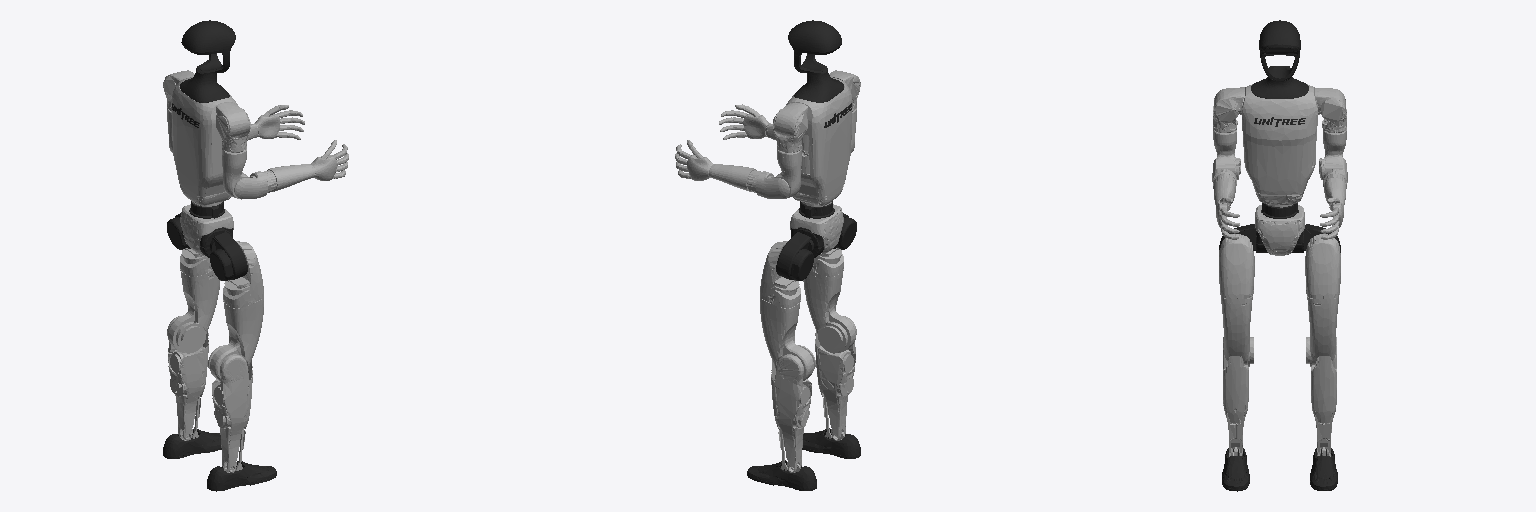
--- What the picture shows (computed from the rendered views, not written in the file) ---
3 views of the same robot in one strip: view 1: azimuth 30°, elevation 25°; view 2: azimuth 150°, elevation 25°; view 3: azimuth 270°, elevation 25° (orthographic).
Model g1_23dof with 33 links and 32 joints (23 revolute, 9 fixed), rooted at pelvis, posed all joints at 0.
Visible links, largest first — view 1: torso_link, right_knee_link, head_link, left_knee_link, left_hip_yaw_link, right_hip_yaw_link, right_wrist_roll_rubber_hand, right_hip_roll_link, right_hip_pitch_link, right_ankle_roll_link, left_wrist_roll_rubber_hand, pelvis_contour_link (+7 smaller); view 2: torso_link, left_knee_link, head_link, right_knee_link, right_hip_yaw_link, left_hip_yaw_link, left_wrist_roll_rubber_hand, left_hip_roll_link, left_hip_pitch_link, left_ankle_roll_link, right_wrist_roll_rubber_hand, pelvis_contour_link (+7 smaller); view 3: torso_link, head_link, right_hip_roll_link, left_hip_roll_link, left_knee_link, right_knee_link, left_hip_yaw_link, right_hip_yaw_link, pelvis_contour_link, left_wrist_roll_rubber_hand, right_wrist_roll_rubber_hand, left_ankle_roll_link (+6 smaller).
Link boxes in pixels (box(x1,y1,x2,y2)): torso_link: box(171, 77, 237, 196); right_knee_link: box(212, 354, 252, 472); head_link: box(180, 20, 235, 102); left_knee_link: box(167, 316, 208, 440); left_hip_yaw_link: box(168, 269, 220, 353); right_hip_yaw_link: box(208, 298, 263, 381); right_wrist_roll_rubber_hand: box(267, 140, 348, 191); right_hip_roll_link: box(223, 241, 263, 308); right_hip_pitch_link: box(210, 232, 247, 280); right_ankle_roll_link: box(207, 461, 276, 491); left_wrist_roll_rubber_hand: box(247, 105, 304, 140); pelvis_contour_link: box(180, 204, 233, 255); torso_link: box(786, 77, 852, 196); left_knee_link: box(771, 354, 811, 472); head_link: box(788, 20, 843, 102); right_knee_link: box(815, 316, 856, 440); right_hip_yaw_link: box(803, 269, 855, 353); left_hip_yaw_link: box(760, 298, 815, 380); left_wrist_roll_rubber_hand: box(675, 140, 756, 191); left_hip_roll_link: box(760, 241, 800, 308); left_hip_pitch_link: box(776, 232, 813, 280); left_ankle_roll_link: box(747, 460, 816, 490); right_wrist_roll_rubber_hand: box(719, 104, 776, 140); pelvis_contour_link: box(790, 204, 843, 255); torso_link: box(1240, 84, 1319, 194); head_link: box(1251, 20, 1308, 98); right_hip_roll_link: box(1219, 234, 1254, 298); left_hip_roll_link: box(1305, 234, 1340, 298); left_knee_link: box(1311, 337, 1336, 456); right_knee_link: box(1223, 337, 1248, 456); left_hip_yaw_link: box(1306, 296, 1338, 366); right_hip_yaw_link: box(1221, 296, 1253, 366); pelvis_contour_link: box(1255, 205, 1304, 255); left_wrist_roll_rubber_hand: box(1320, 178, 1345, 239); right_wrist_roll_rubber_hand: box(1214, 178, 1239, 239); left_ankle_roll_link: box(1310, 448, 1337, 490).
Size in the robot's own frame: 0.4418 by 0.3631 by 1.32 metres.
Meshes: 29 distinct files referenced, 29 mesh visuals loaded (29 OBJ).

URDF robot description (g1_23dof):
<robot name="g1_23dof">
  <mujoco>
    <compiler meshdir="meshes" discardvisual="false"/>
  </mujoco>

  <!-- [CAUTION] uncomment when convert to mujoco -->
  <!-- <link name="world"></link>
  <joint name="floating_base_joint" type="floating">
    <parent link="world"/>
    <child link="pelvis"/>
  </joint> -->

  <link name="pelvis">
    <inertial>
      <origin xyz="0 0 -0.07605" rpy="0 0 0"/>
      <mass value="3.813"/>
      <inertia ixx="0.010549" ixy="0" ixz="2.1E-06" iyy="0.0093089" iyz="0" izz="0.0079184"/>
    </inertial>
    <visual>
      <origin xyz="0 0 0" rpy="0 0 0"/>
      <geometry>
        <mesh filename="meshes/pelvis.obj"/>
      </geometry>
      <material name="dark">
        <color rgba="0.2 0.2 0.2 1"/>
      </material>
    </visual>
  </link>
  <link name="pelvis_contour_link">
    <inertial>
      <origin xyz="0 0 0" rpy="0 0 0"/>
      <mass value="0.001"/>
      <inertia ixx="1e-7" ixy="0" ixz="0" iyy="1e-7" iyz="0" izz="1e-7"/>
    </inertial>
    <visual>
      <origin xyz="0 0 0" rpy="0 0 0"/>
      <geometry>
        <mesh filename="meshes/pelvis_contour_link.obj"/>
      </geometry>
      <material name="white">
        <color rgba="0.7 0.7 0.7 1"/>
      </material>
    </visual>
    <collision>
      <origin xyz="0 0 0" rpy="0 0 0"/>
      <geometry>
        <mesh filename="meshes/pelvis_contour_link.obj"/>
      </geometry>
    </collision>
  </link>
  <joint name="pelvis_contour_joint" type="fixed">
    <parent link="pelvis"/>
    <child link="pelvis_contour_link"/>
  </joint>

  <!-- Legs -->
  <link name="left_hip_pitch_link">
    <inertial>
      <origin xyz="0.002741 0.047791 -0.02606" rpy="0 0 0"/>
      <mass value="1.35"/>
      <inertia ixx="0.001811" ixy="3.68E-05" ixz="-3.44E-05" iyy="0.0014193" iyz="0.000171" izz="0.0012812"/>
    </inertial>
    <visual>
      <origin xyz="0 0 0" rpy="0 0 0"/>
      <geometry>
        <mesh filename="meshes/left_hip_pitch_link.obj"/>
      </geometry>
      <material name="dark">
        <color rgba="0.2 0.2 0.2 1"/>
      </material>
    </visual>
    <collision>
      <origin xyz="0 0 0" rpy="0 0 0"/>
      <geometry>
        <mesh filename="meshes/left_hip_pitch_link.obj"/>
      </geometry>
    </collision>
  </link>
  <joint name="left_hip_pitch_joint" type="revolute">
    <origin xyz="0 0.064452 -0.1027" rpy="0 0 0"/>
    <parent link="pelvis"/>
    <child link="left_hip_pitch_link"/>
    <axis xyz="0 1 0"/>
    <limit lower="-2.5307" upper="2.8798" effort="88" velocity="32"/>
  </joint>
  <link name="left_hip_roll_link">
    <inertial>
      <origin xyz="0.029812 -0.001045 -0.087934" rpy="0 0 0"/>
      <mass value="1.52"/>
      <inertia ixx="0.0023773" ixy="-3.8E-06" ixz="-0.0003908" iyy="0.0024123" iyz="1.84E-05" izz="0.0016595"/>
    </inertial>
    <visual>
      <origin xyz="0 0 0" rpy="0 0 0"/>
      <geometry>
        <mesh filename="meshes/left_hip_roll_link.obj"/>
      </geometry>
      <material name="white">
        <color rgba="0.7 0.7 0.7 1"/>
      </material>
    </visual>
    <collision>
      <origin xyz="0 0 0" rpy="0 0 0"/>
      <geometry>
        <mesh filename="meshes/left_hip_roll_link.obj"/>
      </geometry>
    </collision>
  </link>
  <joint name="left_hip_roll_joint" type="revolute">
    <origin xyz="0 0.052 -0.030465" rpy="0 -0.1749 0"/>
    <parent link="left_hip_pitch_link"/>
    <child link="left_hip_roll_link"/>
    <axis xyz="1 0 0"/>
    <limit lower="-0.5236" upper="2.9671" effort="88" velocity="32"/>
  </joint>
  <link name="left_hip_yaw_link">
    <inertial>
      <origin xyz="-0.057709 -0.010981 -0.15078" rpy="0 0 0"/>
      <mass value="1.702"/>
      <inertia ixx="0.0057774" ixy="-0.0005411" ixz="-0.0023948" iyy="0.0076124" iyz="-0.0007072" izz="0.003149"/>
    </inertial>
    <visual>
      <origin xyz="0 0 0" rpy="0 0 0"/>
      <geometry>
        <mesh filename="meshes/left_hip_yaw_link.obj"/>
      </geometry>
      <material name="white">
        <color rgba="0.7 0.7 0.7 1"/>
      </material>
    </visual>
    <collision>
      <origin xyz="0 0 0" rpy="0 0 0"/>
      <geometry>
        <mesh filename="meshes/left_hip_yaw_link.obj"/>
      </geometry>
    </collision>
  </link>
  <joint name="left_hip_yaw_joint" type="revolute">
    <origin xyz="0.025001 0 -0.12412" rpy="0 0 0"/>
    <parent link="left_hip_roll_link"/>
    <child link="left_hip_yaw_link"/>
    <axis xyz="0 0 1"/>
    <limit lower="-2.7576" upper="2.7576" effort="88" velocity="32"/>
  </joint>
  <link name="left_knee_link">
    <inertial>
      <origin xyz="0.005457 0.003964 -0.12074" rpy="0 0 0"/>
      <mass value="1.932"/>
      <inertia ixx="0.011329" ixy="4.82E-05" ixz="-4.49E-05" iyy="0.011277" iyz="-0.0007146" izz="0.0015168"/>
    </inertial>
    <visual>
      <origin xyz="0 0 0" rpy="0 0 0"/>
      <geometry>
        <mesh filename="meshes/left_knee_link.obj"/>
      </geometry>
      <material name="white">
        <color rgba="0.7 0.7 0.7 1"/>
      </material>
    </visual>
    <collision>
      <origin xyz="0 0 0" rpy="0 0 0"/>
      <geometry>
        <mesh filename="meshes/left_knee_link.obj"/>
      </geometry>
    </collision>
  </link>
  <joint name="left_knee_joint" type="revolute">
    <origin xyz="-0.078273 0.0021489 -0.17734" rpy="0 0.1749 0"/>
    <parent link="left_hip_yaw_link"/>
    <child link="left_knee_link"/>
    <axis xyz="0 1 0"/>
    <limit lower="-0.087267" upper="2.8798" effort="139" velocity="20"/>
  </joint>
  <link name="left_ankle_pitch_link">
    <inertial>
      <origin xyz="-0.007269 0 0.011137" rpy="0 0 0"/>
      <mass value="0.074"/>
      <inertia ixx="8.4E-06" ixy="0" ixz="-2.9E-06" iyy="1.89E-05" iyz="0" izz="1.26E-05"/>
    </inertial>
    <visual>
      <origin xyz="0 0 0" rpy="0 0 0"/>
      <geometry>
        <mesh filename="meshes/left_ankle_pitch_link.obj"/>
      </geometry>
      <material name="white">
        <color rgba="0.7 0.7 0.7 1"/>
      </material>
    </visual>
    <collision>
      <origin xyz="0 0 0" rpy="0 0 0"/>
      <geometry>
        <mesh filename="meshes/left_ankle_pitch_link.obj"/>
      </geometry>
    </collision>
  </link>
  <joint name="left_ankle_pitch_joint" type="revolute">
    <origin xyz="0 -9.4445E-05 -0.30001" rpy="0 0 0"/>
    <parent link="left_knee_link"/>
    <child link="left_ankle_pitch_link"/>
    <axis xyz="0 1 0"/>
    <limit lower="-0.87267" upper="0.5236" effort="50" velocity="37"/>
  </joint>
  <link name="left_ankle_roll_link">
    <inertial>
      <origin xyz="0.026505 0 -0.016425" rpy="0 0 0"/>
      <mass value="0.608"/>
      <inertia ixx="0.0002231" ixy="2E-07" ixz="8.91E-05" iyy="0.0016161" iyz="-1E-07" izz="0.0016667"/>
    </inertial>
    <visual>
      <origin xyz="0 0 0" rpy="0 0 0"/>
      <geometry>
        <mesh filename="meshes/left_ankle_roll_link.obj"/>
      </geometry>
      <material name="dark">
        <color rgba="0.2 0.2 0.2 1"/>
      </material>
    </visual>
    <collision>
      <origin xyz="-0.05 0.025 -0.03" rpy="0 0 0"/>
      <geometry>
        <sphere radius="0.005"/>
      </geometry>
    </collision>
    <collision>
      <origin xyz="-0.05 -0.025 -0.03" rpy="0 0 0"/>
      <geometry>
        <sphere radius="0.005"/>
      </geometry>
    </collision>
    <collision>
      <origin xyz="0.12 0.03 -0.03" rpy="0 0 0"/>
      <geometry>
        <sphere radius="0.005"/>
      </geometry>
    </collision>
    <collision>
      <origin xyz="0.12 -0.03 -0.03" rpy="0 0 0"/>
      <geometry>
        <sphere radius="0.005"/>
      </geometry>
    </collision>
  </link>
  <joint name="left_ankle_roll_joint" type="revolute">
    <origin xyz="0 0 -0.017558" rpy="0 0 0"/>
    <parent link="left_ankle_pitch_link"/>
    <child link="left_ankle_roll_link"/>
    <axis xyz="1 0 0"/>
    <limit lower="-0.2618" upper="0.2618" effort="50" velocity="37"/>
  </joint>
  <link name="right_hip_pitch_link">
    <inertial>
      <origin xyz="0.002741 -0.047791 -0.02606" rpy="0 0 0"/>
      <mass value="1.35"/>
      <inertia ixx="0.001811" ixy="-3.68E-05" ixz="-3.44E-05" iyy="0.0014193" iyz="-0.000171" izz="0.0012812"/>
    </inertial>
    <visual>
      <origin xyz="0 0 0" rpy="0 0 0"/>
      <geometry>
        <mesh filename="meshes/right_hip_pitch_link.obj"/>
      </geometry>
      <material name="dark">
        <color rgba="0.2 0.2 0.2 1"/>
      </material>
    </visual>
    <collision>
      <origin xyz="0 0 0" rpy="0 0 0"/>
      <geometry>
        <mesh filename="meshes/right_hip_pitch_link.obj"/>
      </geometry>
    </collision>
  </link>
  <joint name="right_hip_pitch_joint" type="revolute">
    <origin xyz="0 -0.064452 -0.1027" rpy="0 0 0"/>
    <parent link="pelvis"/>
    <child link="right_hip_pitch_link"/>
    <axis xyz="0 1 0"/>
    <limit lower="-2.5307" upper="2.8798" effort="88" velocity="32"/>
  </joint>
  <link name="right_hip_roll_link">
    <inertial>
      <origin xyz="0.029812 0.001045 -0.087934" rpy="0 0 0"/>
      <mass value="1.52"/>
      <inertia ixx="0.0023773" ixy="3.8E-06" ixz="-0.0003908" iyy="0.0024123" iyz="-1.84E-05" izz="0.0016595"/>
    </inertial>
    <visual>
      <origin xyz="0 0 0" rpy="0 0 0"/>
      <geometry>
        <mesh filename="meshes/right_hip_roll_link.obj"/>
      </geometry>
      <material name="white">
        <color rgba="0.7 0.7 0.7 1"/>
      </material>
    </visual>
    <collision>
      <origin xyz="0 0 0" rpy="0 0 0"/>
      <geometry>
        <mesh filename="meshes/right_hip_roll_link.obj"/>
      </geometry>
    </collision>
  </link>
  <joint name="right_hip_roll_joint" type="revolute">
    <origin xyz="0 -0.052 -0.030465" rpy="0 -0.1749 0"/>
    <parent link="right_hip_pitch_link"/>
    <child link="right_hip_roll_link"/>
    <axis xyz="1 0 0"/>
    <limit lower="-2.9671" upper="0.5236" effort="88" velocity="32"/>
  </joint>
  <link name="right_hip_yaw_link">
    <inertial>
      <origin xyz="-0.057709 0.010981 -0.15078" rpy="0 0 0"/>
      <mass value="1.702"/>
      <inertia ixx="0.0057774" ixy="0.0005411" ixz="-0.0023948" iyy="0.0076124" iyz="0.0007072" izz="0.003149"/>
    </inertial>
    <visual>
      <origin xyz="0 0 0" rpy="0 0 0"/>
      <geometry>
        <mesh filename="meshes/right_hip_yaw_link.obj"/>
      </geometry>
      <material name="white">
        <color rgba="0.7 0.7 0.7 1"/>
      </material>
    </visual>
    <collision>
      <origin xyz="0 0 0" rpy="0 0 0"/>
      <geometry>
        <mesh filename="meshes/right_hip_yaw_link.obj"/>
      </geometry>
    </collision>
  </link>
  <joint name="right_hip_yaw_joint" type="revolute">
    <origin xyz="0.025001 0 -0.12412" rpy="0 0 0"/>
    <parent link="right_hip_roll_link"/>
    <child link="right_hip_yaw_link"/>
    <axis xyz="0 0 1"/>
    <limit lower="-2.7576" upper="2.7576" effort="88" velocity="32"/>
  </joint>
  <link name="right_knee_link">
    <inertial>
      <origin xyz="0.005457 -0.003964 -0.12074" rpy="0 0 0"/>
      <mass value="1.932"/>
      <inertia ixx="0.011329" ixy="-4.82E-05" ixz="4.49E-05" iyy="0.011277" iyz="0.0007146" izz="0.0015168"/>
    </inertial>
    <visual>
      <origin xyz="0 0 0" rpy="0 0 0"/>
      <geometry>
        <mesh filename="meshes/right_knee_link.obj"/>
      </geometry>
      <material name="white">
        <color rgba="0.7 0.7 0.7 1"/>
      </material>
    </visual>
    <collision>
      <origin xyz="0 0 0" rpy="0 0 0"/>
      <geometry>
        <mesh filename="meshes/right_knee_link.obj"/>
      </geometry>
    </collision>
  </link>
  <joint name="right_knee_joint" type="revolute">
    <origin xyz="-0.078273 -0.0021489 -0.17734" rpy="0 0.1749 0"/>
    <parent link="right_hip_yaw_link"/>
    <child link="right_knee_link"/>
    <axis xyz="0 1 0"/>
    <limit lower="-0.087267" upper="2.8798" effort="139" velocity="20"/>
  </joint>
  <link name="right_ankle_pitch_link">
    <inertial>
      <origin xyz="-0.007269 0 0.011137" rpy="0 0 0"/>
      <mass value="0.074"/>
      <inertia ixx="8.4E-06" ixy="0" ixz="-2.9E-06" iyy="1.89E-05" iyz="0" izz="1.26E-05"/>
    </inertial>
    <visual>
      <origin xyz="0 0 0" rpy="0 0 0"/>
      <geometry>
        <mesh filename="meshes/right_ankle_pitch_link.obj"/>
      </geometry>
      <material name="white">
        <color rgba="0.7 0.7 0.7 1"/>
      </material>
    </visual>
    <collision>
      <origin xyz="0 0 0" rpy="0 0 0"/>
      <geometry>
        <mesh filename="meshes/right_ankle_pitch_link.obj"/>
      </geometry>
    </collision>
  </link>
  <joint name="right_ankle_pitch_joint" type="revolute">
    <origin xyz="0 9.4445E-05 -0.30001" rpy="0 0 0"/>
    <parent link="right_knee_link"/>
    <child link="right_ankle_pitch_link"/>
    <axis xyz="0 1 0"/>
    <limit lower="-0.87267" upper="0.5236" effort="50" velocity="37"/>
  </joint>
  <link name="right_ankle_roll_link">
    <inertial>
      <origin xyz="0.026505 0 -0.016425" rpy="0 0 0"/>
      <mass value="0.608"/>
      <inertia ixx="0.0002231" ixy="-2E-07" ixz="8.91E-05" iyy="0.0016161" iyz="1E-07" izz="0.0016667"/>
    </inertial>
    <visual>
      <origin xyz="0 0 0" rpy="0 0 0"/>
      <geometry>
        <mesh filename="meshes/right_ankle_roll_link.obj"/>
      </geometry>
      <material name="dark">
        <color rgba="0.2 0.2 0.2 1"/>
      </material>
    </visual>
    <collision>
      <origin xyz="-0.05 0.025 -0.03" rpy="0 0 0"/>
      <geometry>
        <sphere radius="0.005"/>
      </geometry>
    </collision>
    <collision>
      <origin xyz="-0.05 -0.025 -0.03" rpy="0 0 0"/>
      <geometry>
        <sphere radius="0.005"/>
      </geometry>
    </collision>
    <collision>
      <origin xyz="0.12 0.03 -0.03" rpy="0 0 0"/>
      <geometry>
        <sphere radius="0.005"/>
      </geometry>
    </collision>
    <collision>
      <origin xyz="0.12 -0.03 -0.03" rpy="0 0 0"/>
      <geometry>
        <sphere radius="0.005"/>
      </geometry>
    </collision>
  </link>
  <joint name="right_ankle_roll_joint" type="revolute">
    <origin xyz="0 0 -0.017558" rpy="0 0 0"/>
    <parent link="right_ankle_pitch_link"/>
    <child link="right_ankle_roll_link"/>
    <axis xyz="1 0 0"/>
    <limit lower="-0.2618" upper="0.2618" effort="50" velocity="37"/>
  </joint>

  <!-- Torso -->
  <link name="waist_yaw_fixed_link">
    <inertial>
      <origin xyz="0.003964 0 0.018769" rpy="0 0 0"/>
      <mass value="0.244"/>
      <inertia ixx="9.9587E-05" ixy="-1.833E-06" ixz="-1.2617E-05" iyy="0.00012411" iyz="-1.18E-07" izz="0.00015586"/>
    </inertial>
    <visual>
      <origin xyz="0 0 0" rpy="0 0 0"/>
      <geometry>
        <mesh filename="meshes/waist_yaw_link.obj"/>
      </geometry>
      <material name="white">
        <color rgba="0.7 0.7 0.7 1"/>
      </material>
    </visual>
  </link>
  <joint name="waist_yaw_fixed_joint" type="fixed">
    <origin xyz="0.0039635 0 -0.054" rpy="0 0 0"/>
    <parent link="torso_link"/>
    <child link="waist_yaw_fixed_link"/>
  </joint>
  <joint name="waist_yaw_joint" type="revolute">
    <origin xyz="-0.0039635 0 0.054" rpy="0 0 0"/>
    <parent link="pelvis"/>
    <child link="torso_link"/>
    <axis xyz="0 0 1"/>
    <limit lower="-2.618" upper="2.618" effort="88" velocity="32"/>
  </joint>
  <link name="torso_link">
    <inertial>
      <origin xyz="0.002601 0.000257 0.153719" rpy="0 0 0"/>
      <mass value="8.562"/>
      <inertia ixx="0.065674966" ixy="-8.597E-05" ixz="-0.001737252" iyy="0.053535188" iyz="8.6899E-05" izz="0.030808125"/>
    </inertial>
    <visual>
      <origin xyz="0 0 0" rpy="0 0 0"/>
      <geometry>
        <mesh filename="meshes/torso_link.obj"/>
      </geometry>
      <material name="white">
        <color rgba="0.7 0.7 0.7 1"/>
      </material>
    </visual>
    <collision>
      <origin xyz="0 0 0" rpy="0 0 0"/>
      <geometry>
        <mesh filename="meshes/torso_link.obj"/>
      </geometry>
    </collision>
  </link>

  <!-- LOGO -->
  <joint name="logo_joint" type="fixed">
    <origin xyz="0.0039635 0 -0.054" rpy="0 0 0"/>
    <parent link="torso_link"/>
    <child link="logo_link"/>
  </joint>
  <link name="logo_link">
    <inertial>
      <origin xyz="0 0 0" rpy="0 0 0"/>
      <mass value="0.001"/>
      <inertia ixx="1e-7" ixy="0" ixz="0" iyy="1e-7" iyz="0" izz="1e-7"/>
    </inertial>
    <visual>
      <origin xyz="0 0 0" rpy="0 0 0"/>
      <geometry>
        <mesh filename="meshes/logo_link.obj"/>
      </geometry>
      <material name="dark">
        <color rgba="0.2 0.2 0.2 1"/>
      </material>
    </visual>
    <collision>
      <origin xyz="0 0 0" rpy="0 0 0"/>
      <geometry>
        <mesh filename="meshes/logo_link.obj"/>
      </geometry>
    </collision>
  </link>

  <!-- Head -->
  <link name="head_link">
    <inertial>
      <origin xyz="0.005267 0.000299 0.449869" rpy="0 0 0"/>
      <mass value="1.036"/>
      <inertia ixx="0.004085051" ixy="-2.543E-06" ixz="-6.9455E-05" iyy="0.004185212" iyz="-3.726E-06" izz="0.001807911"/>
    </inertial>
    <visual>
      <origin xyz="0 0 0" rpy="0 0 0"/>
      <geometry>
        <mesh filename="meshes/head_link.obj"/>
      </geometry>
      <material name="dark">
        <color rgba="0.2 0.2 0.2 1"/>
      </material>
    </visual>
    <collision>
      <origin xyz="0 0 0" rpy="0 0 0"/>
      <geometry>
        <mesh filename="meshes/head_link.obj"/>
      </geometry>
    </collision>
  </link>
  <joint name="head_joint" type="fixed">
    <origin xyz="0.0039635 0 -0.054" rpy="0 0 0"/>
    <parent link="torso_link"/>
    <child link="head_link"/>
  </joint>

  <!-- Waist Support -->
  <link name="waist_support_link">
    <inertial>
      <origin xyz="0 0 0" rpy="0 0 0"/>
      <mass value="0.001"/>
      <inertia ixx="1e-7" ixy="0" ixz="0" iyy="1e-7" iyz="0" izz="1e-7"/>
    </inertial>
    <visual>
      <origin xyz="0 0 0" rpy="0 0 0"/>
      <geometry>
        <mesh filename="meshes/waist_support_link.obj"/>
      </geometry>
      <material name="white">
        <color rgba="0.7 0.7 0.7 1"/>
      </material>
    </visual>
    <collision>
      <origin xyz="0 0 0" rpy="0 0 0"/>
      <geometry>
        <mesh filename="meshes/waist_support_link.obj"/>
      </geometry>
    </collision>
  </link>
  <joint name="waist_support_joint" type="fixed">
    <origin xyz="0.0039635 0 -0.054" rpy="0 0 0"/>
    <parent link="torso_link"/>
    <child link="waist_support_link"/>
  </joint>

  <!-- IMU -->
  <link name="imu_in_torso"></link>
  <joint name="imu_in_torso_joint" type="fixed">
    <origin xyz="-0.03959 -0.00224 0.13792" rpy="0 0 0"/>
    <parent link="torso_link"/>
    <child link="imu_in_torso"/>
  </joint>

  <link name="imu_in_pelvis"></link>
  <joint name="imu_in_pelvis_joint" type="fixed">
    <origin xyz="0.04525 0 -0.08339" rpy="0 0 0"/>
    <parent link="pelvis"/>
    <child link="imu_in_pelvis"/>
  </joint>

  <!-- d435 -->
  <link name="d435_link"></link>
  <joint name="d435_joint" type="fixed">
    <origin xyz="0.0576235 0.01753 0.41987" rpy="0 0.8307767239493009 0"/>
    <parent link="torso_link"/>
    <child link="d435_link"/>
  </joint>

  <!-- mid360 -->
  <link name="mid360_link"></link>
  <joint name="mid360_joint" type="fixed">
    <origin xyz="0.0002835 0.00003 0.40618" rpy="0 0.04014257279586953 0"/>
    <parent link="torso_link"/>
    <child link="mid360_link"/>
  </joint>

  <!-- Arm -->
  <link name="left_shoulder_pitch_link">
    <inertial>
      <origin xyz="0 0.035892 -0.011628" rpy="0 0 0"/>
      <mass value="0.718"/>
      <inertia ixx="0.0004291" ixy="-9.2E-06" ixz="6.4E-06" iyy="0.000453" iyz="2.26E-05" izz="0.000423"/>
    </inertial>
    <visual>
      <origin xyz="0 0 0" rpy="0 0 0"/>
      <geometry>
        <mesh filename="meshes/left_shoulder_pitch_link.obj"/>
      </geometry>
      <material name="white">
        <color rgba="0.7 0.7 0.7 1"/>
      </material>
    </visual>
    <collision>
      <origin xyz="0 0.04 -0.01" rpy="0 1.5707963267948966 0"/>
      <geometry>
        <cylinder radius="0.03" length="0.05"/>
      </geometry>
    </collision>
  </link>
  <joint name="left_shoulder_pitch_joint" type="revolute">
    <origin xyz="0.0039563 0.10022 0.23778" rpy="0.27931 5.4949E-05 -0.00019159"/>
    <parent link="torso_link"/>
    <child link="left_shoulder_pitch_link"/>
    <axis xyz="0 1 0"/>
    <limit lower="-3.0892" upper="2.6704" effort="25" velocity="37"/>
  </joint>
  <link name="left_shoulder_roll_link">
    <inertial>
      <origin xyz="-0.000227 0.00727 -0.063243" rpy="0 0 0"/>
      <mass value="0.643"/>
      <inertia ixx="0.0006177" ixy="-1E-06" ixz="8.7E-06" iyy="0.0006912" iyz="-5.3E-06" izz="0.0003894"/>
    </inertial>
    <visual>
      <origin xyz="0 0 0" rpy="0 0 0"/>
      <geometry>
        <mesh filename="meshes/left_shoulder_roll_link.obj"/>
      </geometry>
      <material name="white">
        <color rgba="0.7 0.7 0.7 1"/>
      </material>
    </visual>
    <collision>
      <origin xyz="-0.004 0.006 -0.053" rpy="0 0 0"/>
      <geometry>
        <cylinder radius="0.03" length="0.03"/>
      </geometry>
    </collision>
  </link>
  <joint name="left_shoulder_roll_joint" type="revolute">
    <origin xyz="0 0.038 -0.013831" rpy="-0.27925 0 0"/>
    <parent link="left_shoulder_pitch_link"/>
    <child link="left_shoulder_roll_link"/>
    <axis xyz="1 0 0"/>
    <limit lower="-1.5882" upper="2.2515" effort="25" velocity="37"/>
  </joint>
  <link name="left_shoulder_yaw_link">
    <inertial>
      <origin xyz="0.010773 -0.002949 -0.072009" rpy="0 0 0"/>
      <mass value="0.734"/>
      <inertia ixx="0.0009988" ixy="7.9E-06" ixz="0.0001412" iyy="0.0010605" iyz="-2.86E-05" izz="0.0004354"/>
    </inertial>
    <visual>
      <origin xyz="0 0 0" rpy="0 0 0"/>
      <geometry>
        <mesh filename="meshes/left_shoulder_yaw_link.obj"/>
      </geometry>
      <material name="white">
        <color rgba="0.7 0.7 0.7 1"/>
      </material>
    </visual>
    <collision>
      <origin xyz="0 0 0" rpy="0 0 0"/>
      <geometry>
        <mesh filename="meshes/left_shoulder_yaw_link.obj"/>
      </geometry>
    </collision>
  </link>
  <joint name="left_shoulder_yaw_joint" type="revolute">
    <origin xyz="0 0.00624 -0.1032" rpy="0 0 0"/>
    <parent link="left_shoulder_roll_link"/>
    <child link="left_shoulder_yaw_link"/>
    <axis xyz="0 0 1"/>
    <limit lower="-2.618" upper="2.618" effort="25" velocity="37"/>
  </joint>
  <link name="left_elbow_link">
    <inertial>
      <origin xyz="0.064956 0.004454 -0.010062" rpy="0 0 0"/>
      <mass value="0.6"/>
      <inertia ixx="0.0002891" ixy="6.53E-05" ixz="1.72E-05" iyy="0.0004152" iyz="-5.6E-06" izz="0.0004197"/>
    </inertial>
    <visual>
      <origin xyz="0 0 0" rpy="0 0 0"/>
      <geometry>
        <mesh filename="meshes/left_elbow_link.obj"/>
      </geometry>
      <material name="white">
        <color rgba="0.7 0.7 0.7 1"/>
      </material>
    </visual>
    <collision>
      <origin xyz="0 0 0" rpy="0 0 0"/>
      <geometry>
        <mesh filename="meshes/left_elbow_link.obj"/>
      </geometry>
    </collision>
  </link>
  <joint name="left_elbow_joint" type="revolute">
    <origin xyz="0.015783 0 -0.080518" rpy="0 0 0"/>
    <parent link="left_shoulder_yaw_link"/>
    <child link="left_elbow_link"/>
    <axis xyz="0 1 0"/>
    <limit lower="-1.0472" upper="2.0944" effort="25" velocity="37"/>
  </joint>
  <joint name="left_wrist_roll_joint" type="revolute">
    <origin xyz="0.100 0.00188791 -0.010" rpy="0 0 0"/>
    <axis xyz="1 0 0"/>
    <parent link="left_elbow_link"/>
    <child link="left_wrist_roll_rubber_hand"/>
    <limit effort="25" velocity="37" lower="-1.972222054" upper="1.972222054"/>
  </joint>
  <link name="left_wrist_roll_rubber_hand">
    <inertial>
      <origin xyz="0.10794656650 0.00163511945 0.00202244863" rpy="0 0 0"/>
      <mass value="0.35692864"/>
      <inertia ixx="0.00019613494735" ixy="-0.00000419816908" ixz="-0.00003950860580" iyy="0.00200280358206" iyz="0.00000249774203" izz="0.00194181412808"/>
    </inertial>
    <visual>
      <origin xyz="0 0 0" rpy="0 0 0"/>
      <geometry>
        <mesh filename="meshes/left_wrist_roll_rubber_hand.obj"/>
      </geometry>
      <material name="white">
        <color rgba="0.7 0.7 0.7 1"/>
      </material>
    </visual>
    <collision>
      <origin xyz="0 0 0" rpy="0 0 0"/>
      <geometry>
        <mesh filename="meshes/left_wrist_roll_rubber_hand.obj"/>
      </geometry>
    </collision>
  </link>
  <link name="right_shoulder_pitch_link">
    <inertial>
      <origin xyz="0 -0.035892 -0.011628" rpy="0 0 0"/>
      <mass value="0.718"/>
      <inertia ixx="0.0004291" ixy="9.2E-06" ixz="6.4E-06" iyy="0.000453" iyz="-2.26E-05" izz="0.000423"/>
    </inertial>
    <visual>
      <origin xyz="0 0 0" rpy="0 0 0"/>
      <geometry>
        <mesh filename="meshes/right_shoulder_pitch_link.obj"/>
      </geometry>
      <material name="white">
        <color rgba="0.7 0.7 0.7 1"/>
      </material>
    </visual>
    <collision>
      <origin xyz="0 -0.04 -0.01" rpy="0 1.5707963267948966 0"/>
      <geometry>
        <cylinder radius="0.03" length="0.05"/>
      </geometry>
    </collision>
  </link>
  <joint name="right_shoulder_pitch_joint" type="revolute">
    <origin xyz="0.0039563 -0.10021 0.23778" rpy="-0.27931 5.4949E-05 0.00019159"/>
    <parent link="torso_link"/>
    <child link="right_shoulder_pitch_link"/>
    <axis xyz="0 1 0"/>
    <limit lower="-3.0892" upper="2.6704" effort="25" velocity="37"/>
  </joint>
  <link name="right_shoulder_roll_link">
    <inertial>
      <origin xyz="-0.000227 -0.00727 -0.063243" rpy="0 0 0"/>
      <mass value="0.643"/>
      <inertia ixx="0.0006177" ixy="1E-06" ixz="8.7E-06" iyy="0.0006912" iyz="5.3E-06" izz="0.0003894"/>
    </inertial>
    <visual>
      <origin xyz="0 0 0" rpy="0 0 0"/>
      <geometry>
        <mesh filename="meshes/right_shoulder_roll_link.obj"/>
      </geometry>
      <material name="white">
        <color rgba="0.7 0.7 0.7 1"/>
      </material>
    </visual>
    <collision>
      <origin xyz="-0.004 -0.006 -0.053" rpy="0 0 0"/>
      <geometry>
        <cylinder radius="0.03" length="0.03"/>
      </geometry>
    </collision>
  </link>
  <joint name="right_shoulder_roll_joint" type="revolute">
    <origin xyz="0 -0.038 -0.013831" rpy="0.27925 0 0"/>
    <parent link="right_shoulder_pitch_link"/>
    <child link="right_shoulder_roll_link"/>
    <axis xyz="1 0 0"/>
    <limit lower="-2.2515" upper="1.5882" effort="25" velocity="37"/>
  </joint>
  <link name="right_shoulder_yaw_link">
    <inertial>
      <origin xyz="0.010773 0.002949 -0.072009" rpy="0 0 0"/>
      <mass value="0.734"/>
      <inertia ixx="0.0009988" ixy="-7.9E-06" ixz="0.0001412" iyy="0.0010605" iyz="2.86E-05" izz="0.0004354"/>
    </inertial>
    <visual>
      <origin xyz="0 0 0" rpy="0 0 0"/>
      <geometry>
        <mesh filename="meshes/right_shoulder_yaw_link.obj"/>
      </geometry>
      <material name="white">
        <color rgba="0.7 0.7 0.7 1"/>
      </material>
    </visual>
    <collision>
      <origin xyz="0 0 0" rpy="0 0 0"/>
      <geometry>
        <mesh filename="meshes/right_shoulder_yaw_link.obj"/>
      </geometry>
    </collision>
  </link>
  <joint name="right_shoulder_yaw_joint" type="revolute">
    <origin xyz="0 -0.00624 -0.1032" rpy="0 0 0"/>
    <parent link="right_shoulder_roll_link"/>
    <child link="right_shoulder_yaw_link"/>
    <axis xyz="0 0 1"/>
    <limit lower="-2.618" upper="2.618" effort="25" velocity="37"/>
  </joint>
  <link name="right_elbow_link">
    <inertial>
      <origin xyz="0.064956 -0.004454 -0.010062" rpy="0 0 0"/>
      <mass value="0.6"/>
      <inertia ixx="0.0002891" ixy="-6.53E-05" ixz="1.72E-05" iyy="0.0004152" iyz="5.6E-06" izz="0.0004197"/>
    </inertial>
    <visual>
      <origin xyz="0 0 0" rpy="0 0 0"/>
      <geometry>
        <mesh filename="meshes/right_elbow_link.obj"/>
      </geometry>
      <material name="white">
        <color rgba="0.7 0.7 0.7 1"/>
      </material>
    </visual>
    <collision>
      <origin xyz="0 0 0" rpy="0 0 0"/>
      <geometry>
        <mesh filename="meshes/right_elbow_link.obj"/>
      </geometry>
    </collision>
  </link>
  <joint name="right_elbow_joint" type="revolute">
    <origin xyz="0.015783 0 -0.080518" rpy="0 0 0"/>
    <parent link="right_shoulder_yaw_link"/>
    <child link="right_elbow_link"/>
    <axis xyz="0 1 0"/>
    <limit lower="-1.0472" upper="2.0944" effort="25" velocity="37"/>
  </joint>
  <joint name="right_wrist_roll_joint" type="revolute">
    <origin xyz="0.100 -0.00188791 -0.010" rpy="0 0 0"/>
    <axis xyz="1 0 0"/>
    <parent link="right_elbow_link"/>
    <child link="right_wrist_roll_rubber_hand"/>
    <limit effort="25" velocity="37" lower="-1.972222054" upper="1.972222054"/>
  </joint>
  <link name="right_wrist_roll_rubber_hand">
    <inertial>
      <origin xyz="0.10794656650 -0.00163511945 0.00202244863" rpy="0 0 0"/>
      <mass value="0.35692864"/>
      <inertia ixx="0.00019613494735" ixy="0.00000419816908" ixz="-0.00003950860580" iyy="0.00200280358206" iyz="-0.00000249774203" izz="0.00194181412808"/>
    </inertial>
    <visual>
      <origin xyz="0 0 0" rpy="0 0 0"/>
      <geometry>
        <mesh filename="meshes/right_wrist_roll_rubber_hand.obj"/>
      </geometry>
      <material name="white">
        <color rgba="0.7 0.7 0.7 1"/>
      </material>
    </visual>
    <collision>
      <origin xyz="0 0 0" rpy="0 0 0"/>
      <geometry>
        <mesh filename="meshes/right_wrist_roll_rubber_hand.obj"/>
      </geometry>
    </collision>
  </link>
</robot>
